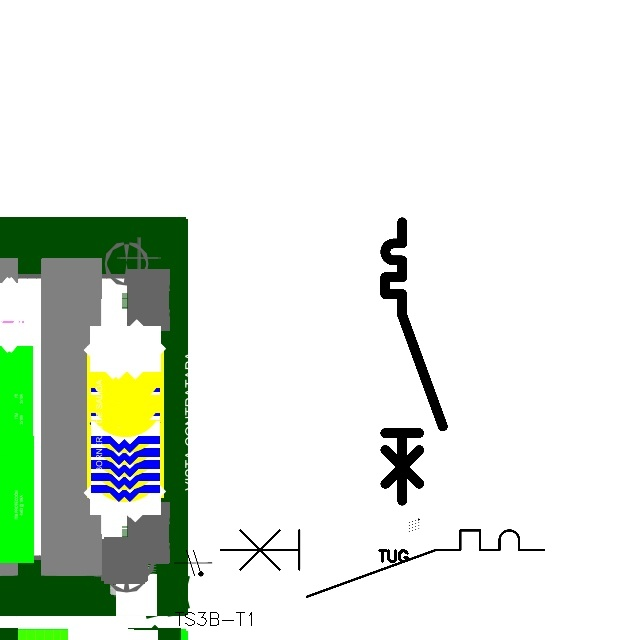interruptor_termomagnetico: (212, 522, 552, 605), (378, 215, 449, 508)
